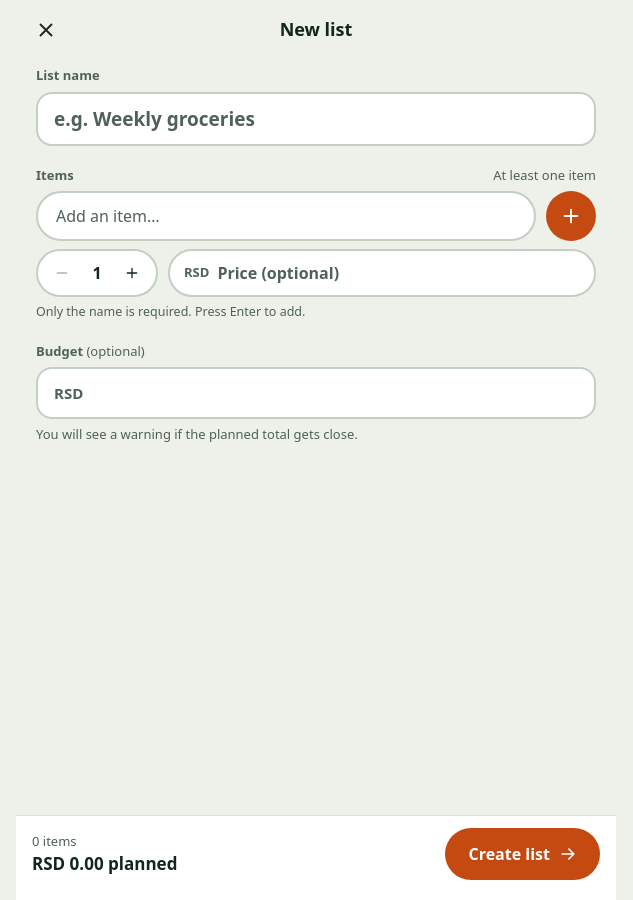
Test: New list › creating a list opens it with its name on screen
This screenshot has width=633, height=900.
Type "Sunday BBQ" into the field labelled "List name". click: point(316, 118)
box: [36, 92, 596, 146]
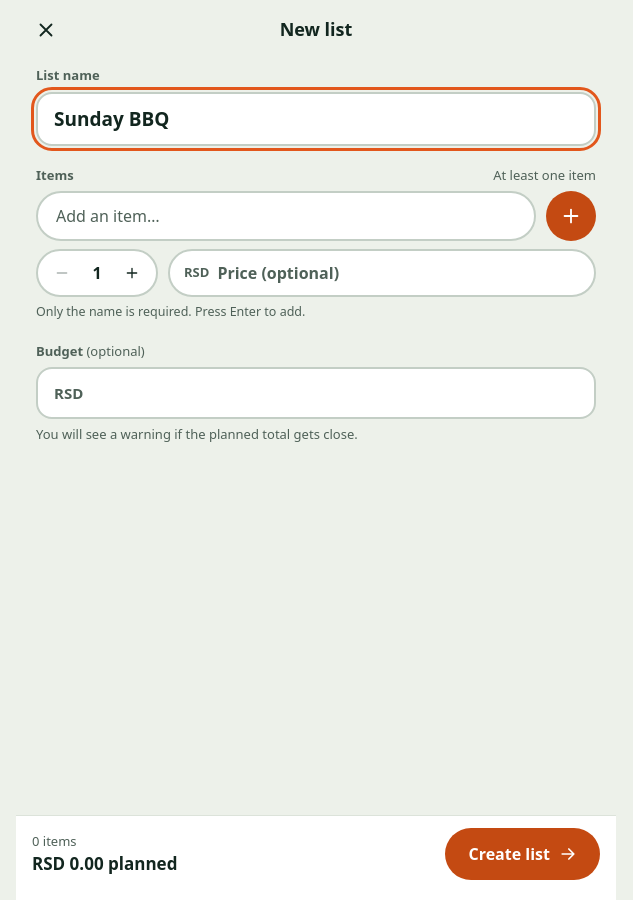
Type "Bread" into the field named "Item name". click: point(286, 216)
box: [36, 191, 536, 241]
Then press Enter
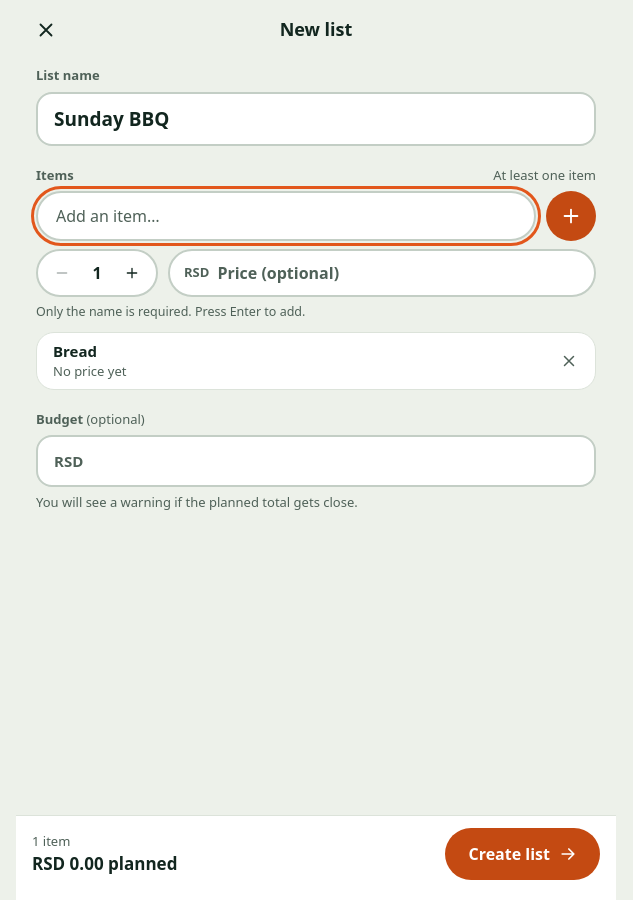
Click the button "Create list". click: point(522, 854)
box: [444, 828, 600, 880]
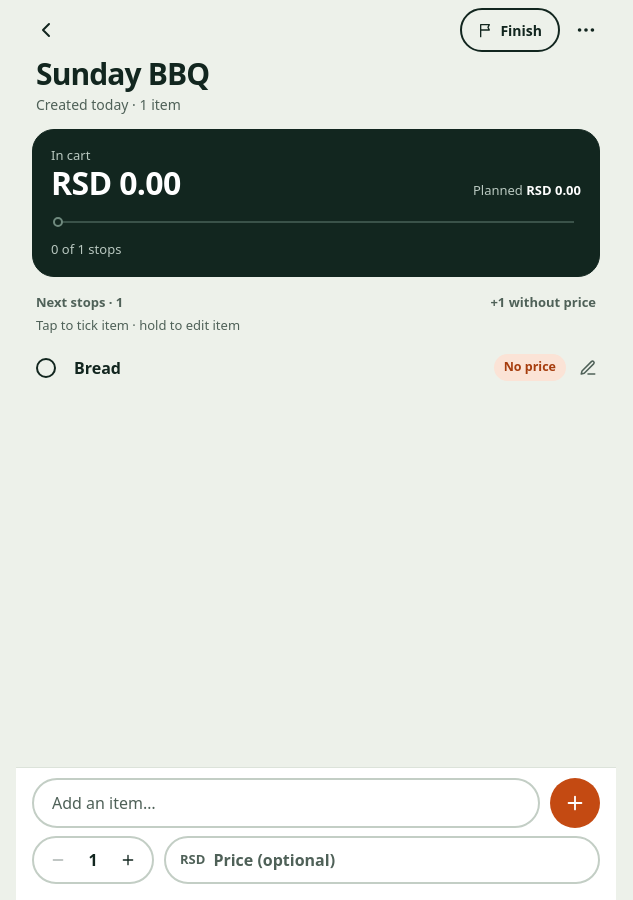
Expected: the heading "Sunday BBQ" is shown, [36, 53, 209, 94]
